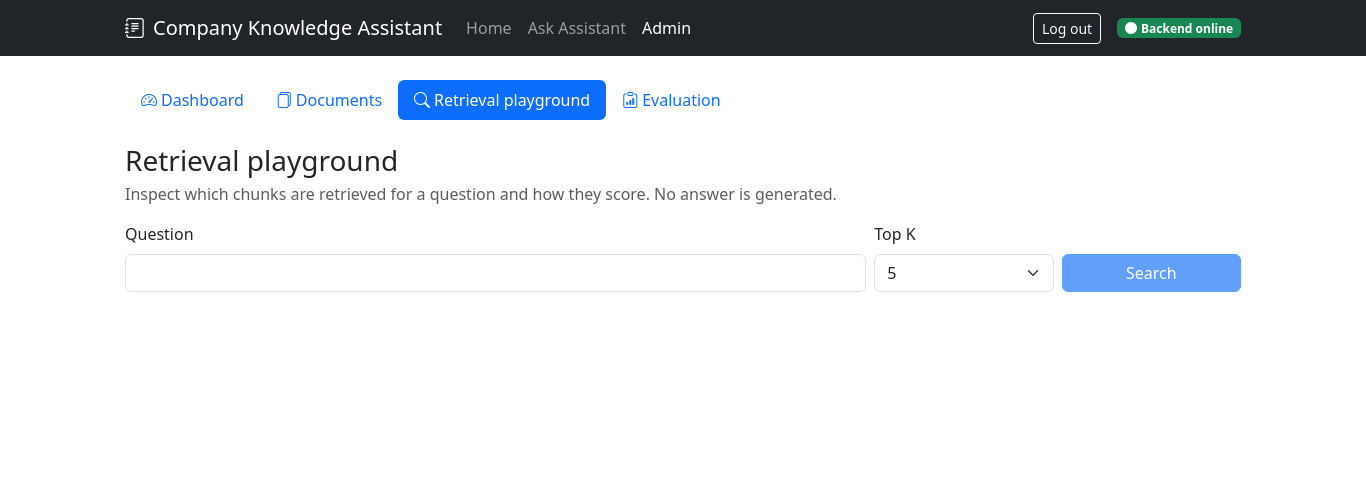
Test: admin panel › retrieval playground › shows retrieved chunks with ranks and scores
Expected: the button "Search" is disabled, [1062,254,1241,292]
Type "leave?" into the field labelled "Question" at point(496, 273), box [125,254,866,292]
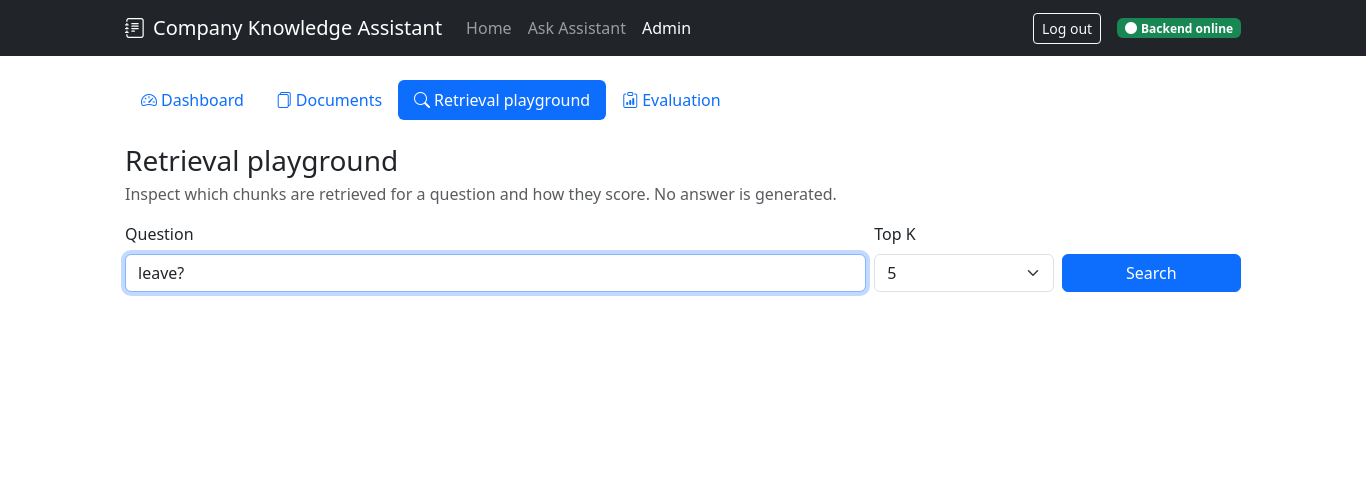
Select "3" in the dropdown labelled "Top K" at point(964, 273), box [874,254,1054,292]
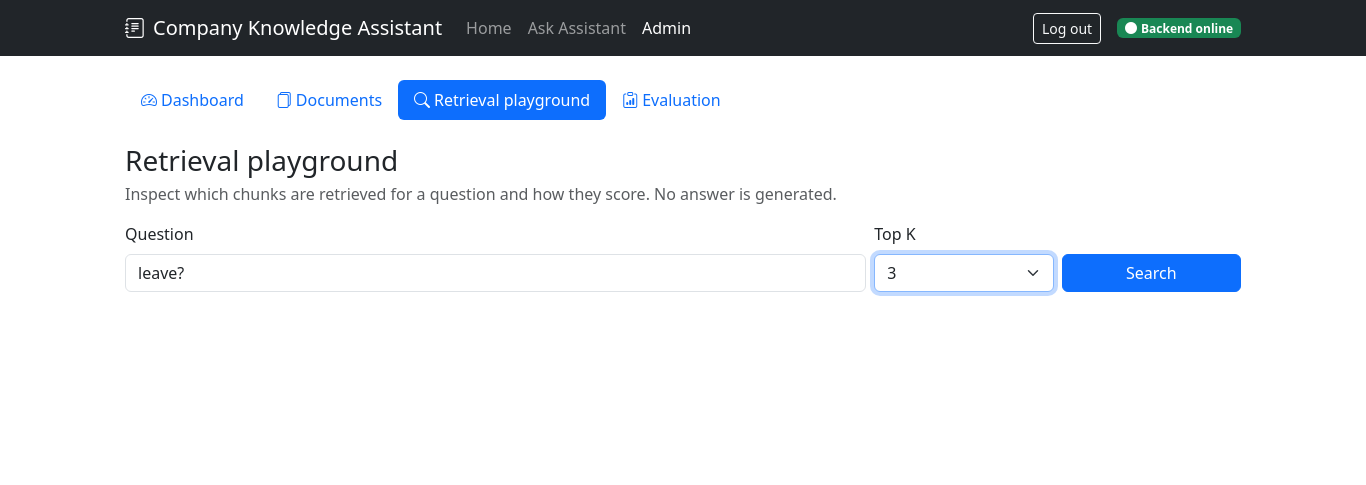
Click the button "Search" at point(1151, 273), box [1062,254,1241,292]
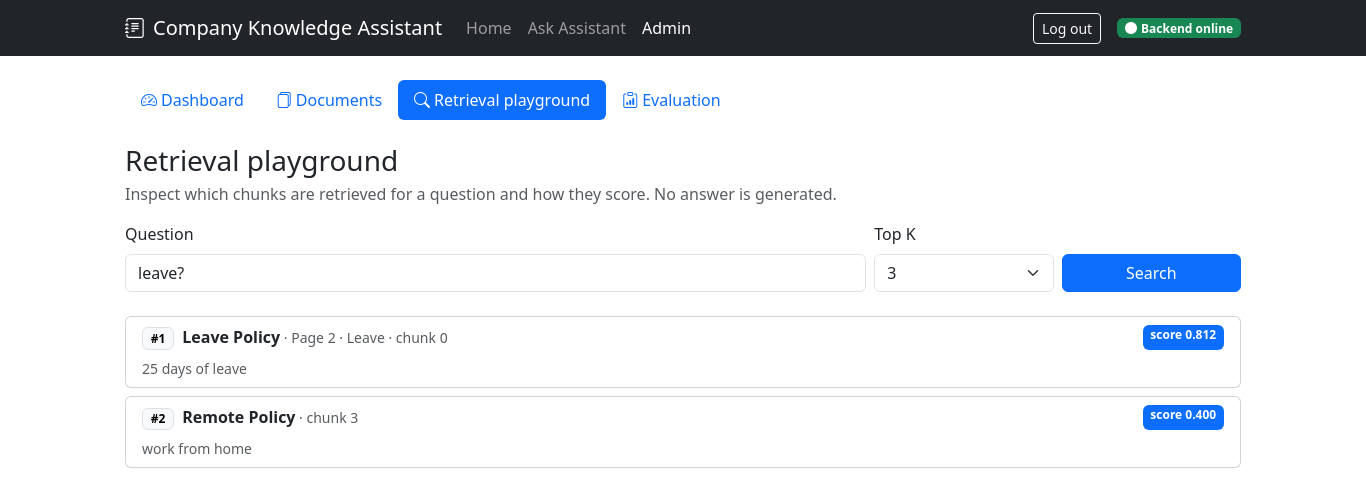
Expected: the number of list items with test id "retrieved-chunk" is 2, [125,316,1241,388]; [125,396,1241,468]
Expected: the list item with test id "retrieved-chunk" shows "Leave Policy", [182,326,280,348]
Expected: the list item with test id "retrieved-chunk" shows "Page 2", [280,328,336,347]
